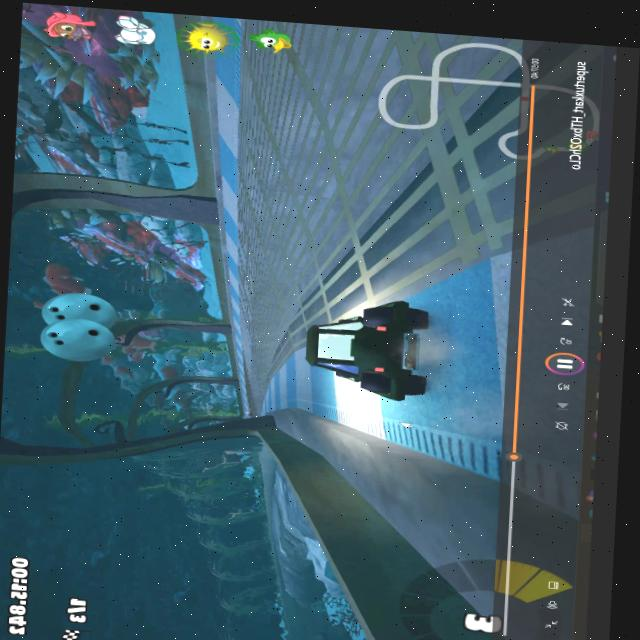player_kart: (303, 297, 444, 401)
track: (236, 20, 517, 284), (239, 264, 305, 345), (315, 274, 411, 303), (241, 339, 269, 412), (270, 341, 289, 367)
